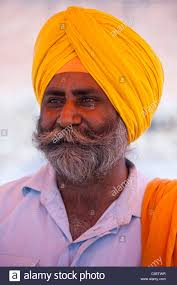helmet: (25, 5, 162, 185)
